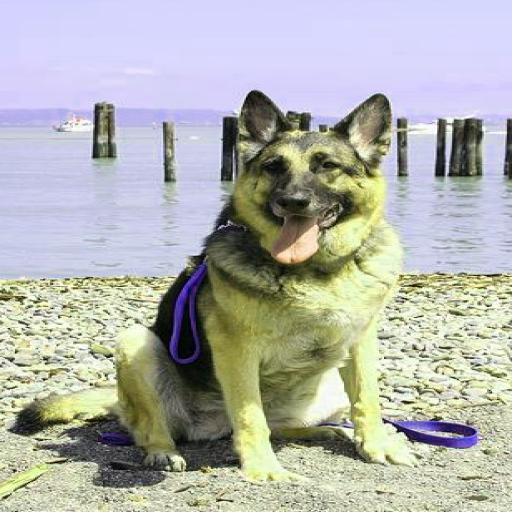dog_face: (231, 92, 391, 257)
